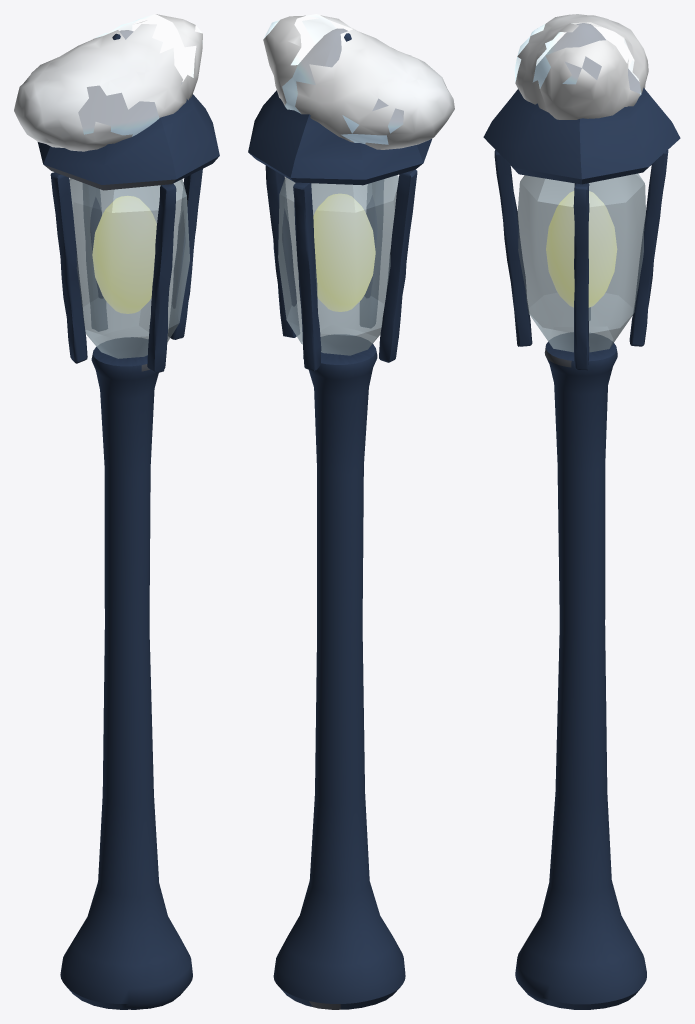
File: frost_lantern.glb
3 views of the same model, side by side, from view 1: azimuth 30°, elevation 25°; view 2: azimuth 150°, elevation 25°; view 3: azimuth 270°, elevation 25° (orthographic).
Visible parts, largest first — view 1: frost_lantern, flame; view 2: frost_lantern, flame; view 3: frost_lantern, flame.
Part boxes in pixels (left/top/right/bottom): frost_lantern: left=14, top=14, right=219, bottom=1009; flame: left=92, top=196, right=156, bottom=313; frost_lantern: left=248, top=14, right=454, bottom=1009; flame: left=313, top=193, right=375, bottom=311; frost_lantern: left=483, top=14, right=680, bottom=1009; flame: left=546, top=191, right=617, bottom=307.
Bounding box in the file's own units: 4.52 × 22 × 4.05.
